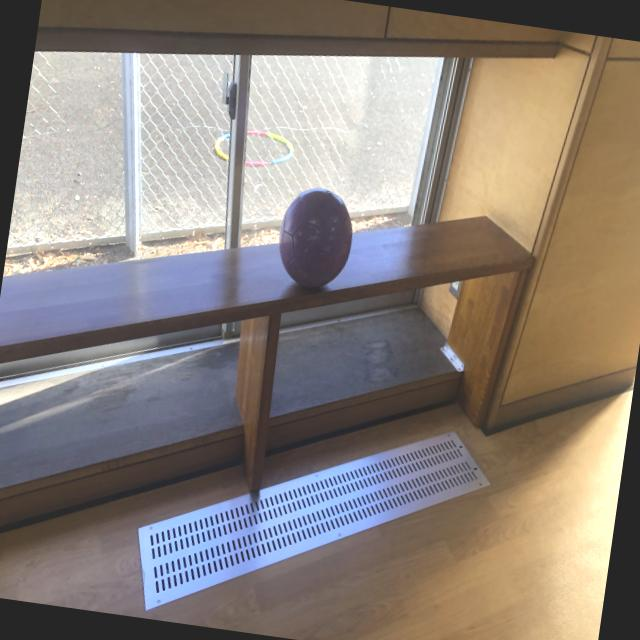purple_ball: (274, 183, 357, 293)
